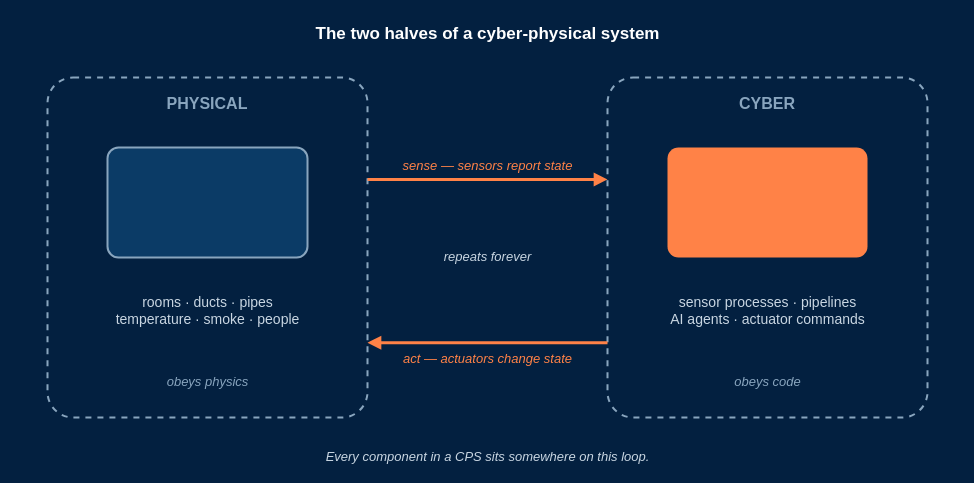
This 974x483 diagram has some shape labels left out. Here are the shapes that lost their labels. From the top down, the centre of each, then its label:
At pixel 207 202: "Building".
At pixel 767 202: "AI".
